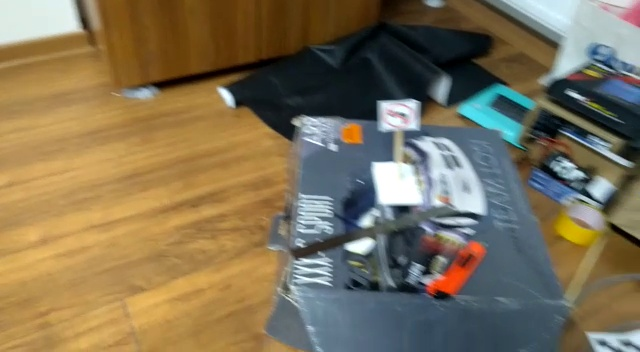sola_donulmez: (381, 101, 418, 130)
